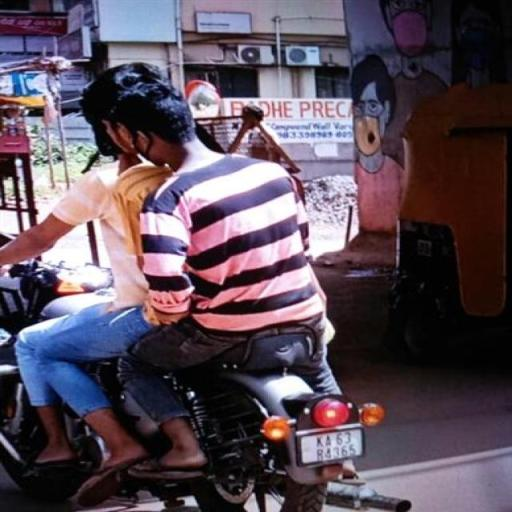tripple riding: (6, 59, 329, 336)
